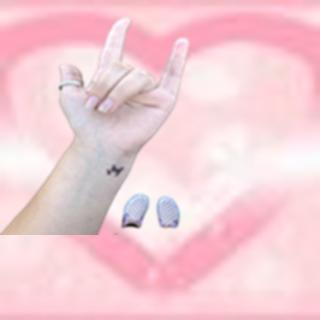ILY: (51, 14, 194, 161)
